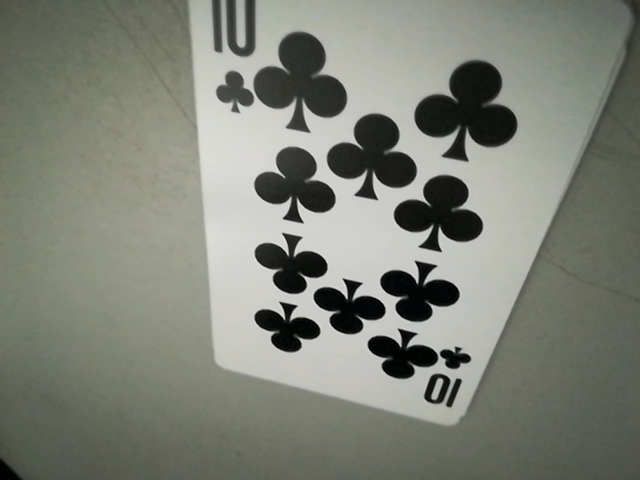mh 10: (197, 1, 255, 120), (425, 341, 476, 414)
